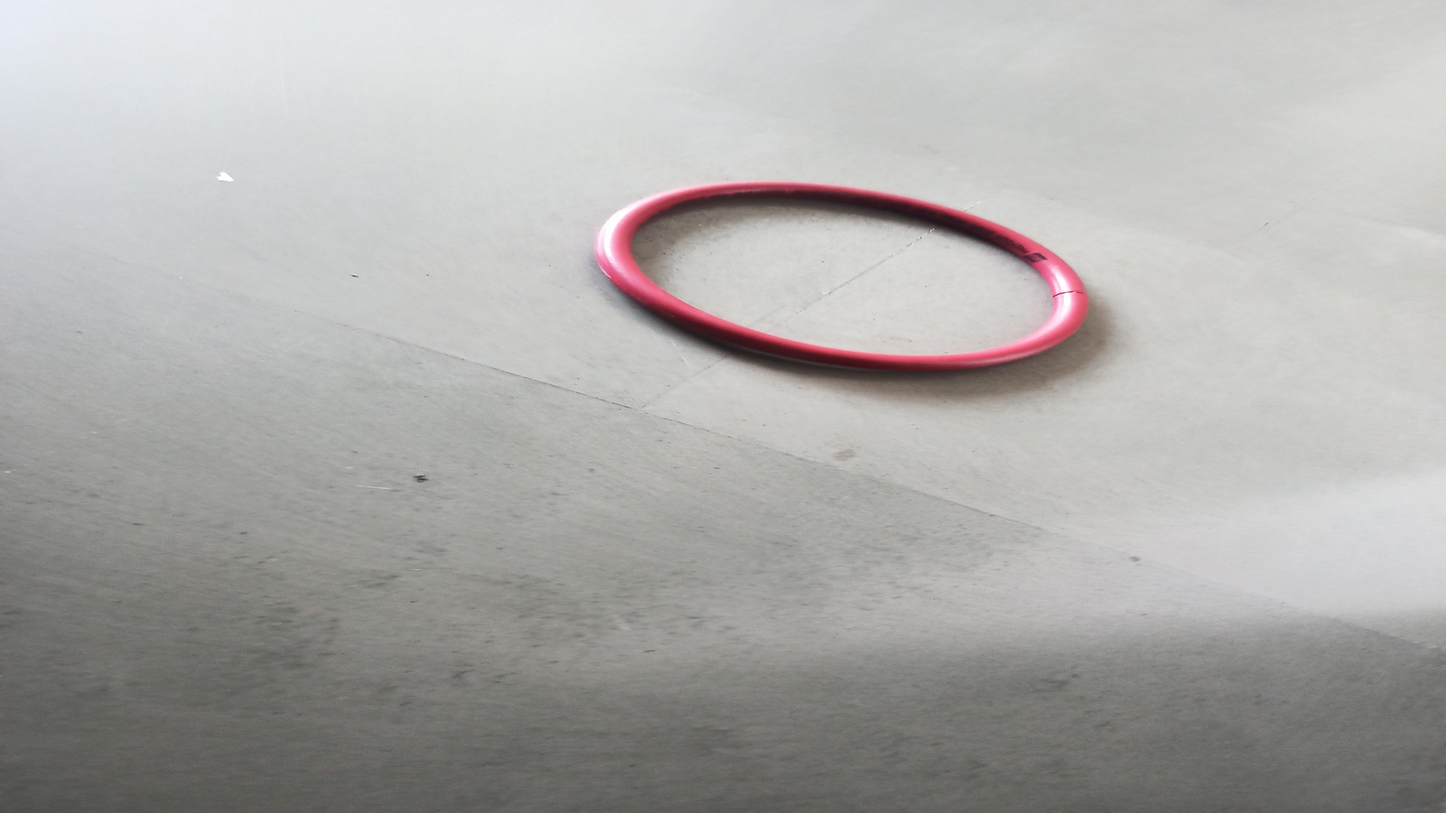Red ring: (596, 181, 1093, 375)
